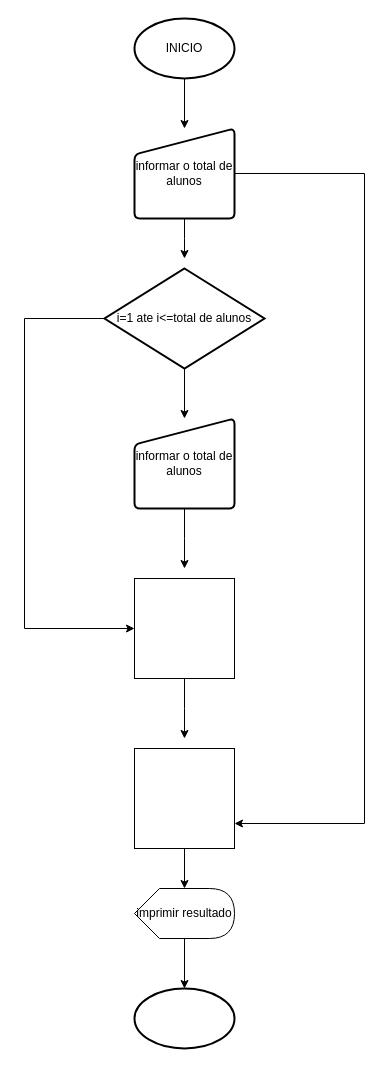
Image size: 390x1066. Some labels were removed from this diagram. Each missing label, with the centre of its shape:
"FIM" belongs at point (184, 1018).
"media=soma/total alunos" belongs at point (184, 798).
"soma=soma+nota" belongs at point (184, 628).
